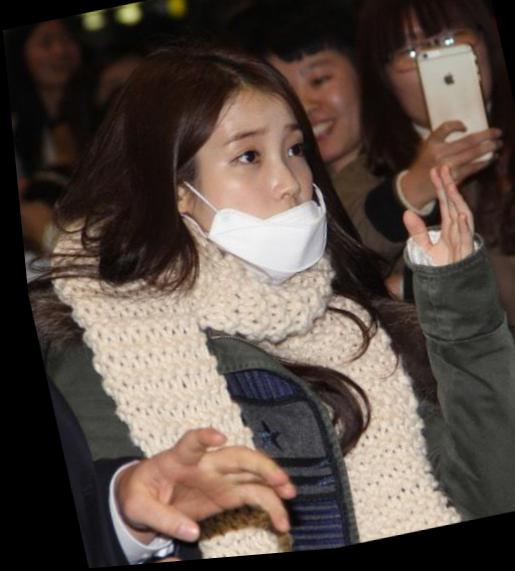NONE: (382, 23, 496, 130), (263, 58, 364, 167), (25, 25, 88, 86)
WRONG: (160, 114, 330, 288)
